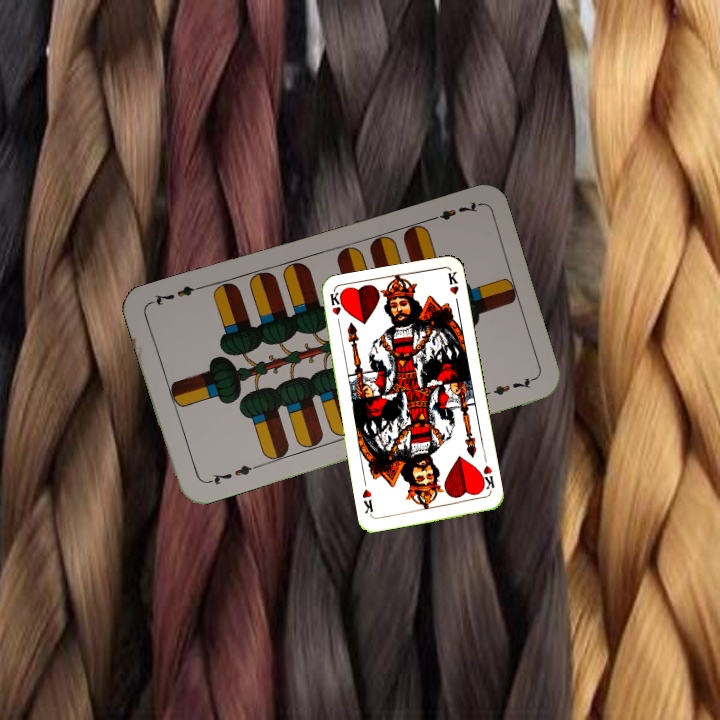E7: (201, 460, 259, 488), (424, 198, 481, 224)
HK: (475, 461, 497, 495), (326, 290, 344, 331)
